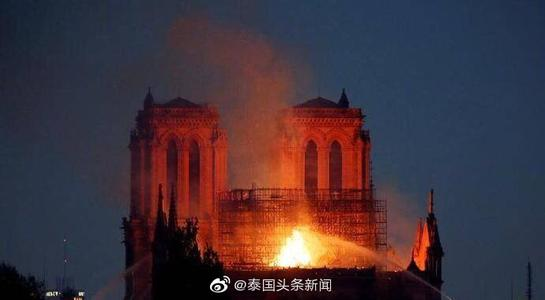fire: (278, 233, 312, 267)
